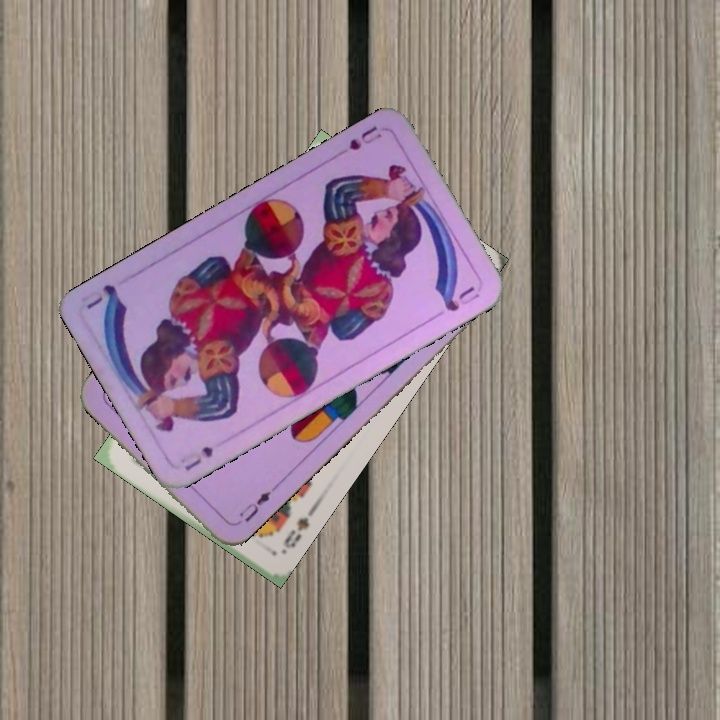EU: (229, 483, 277, 529)
S8: (279, 512, 312, 551)
SU: (344, 121, 385, 153), (180, 442, 217, 474)
